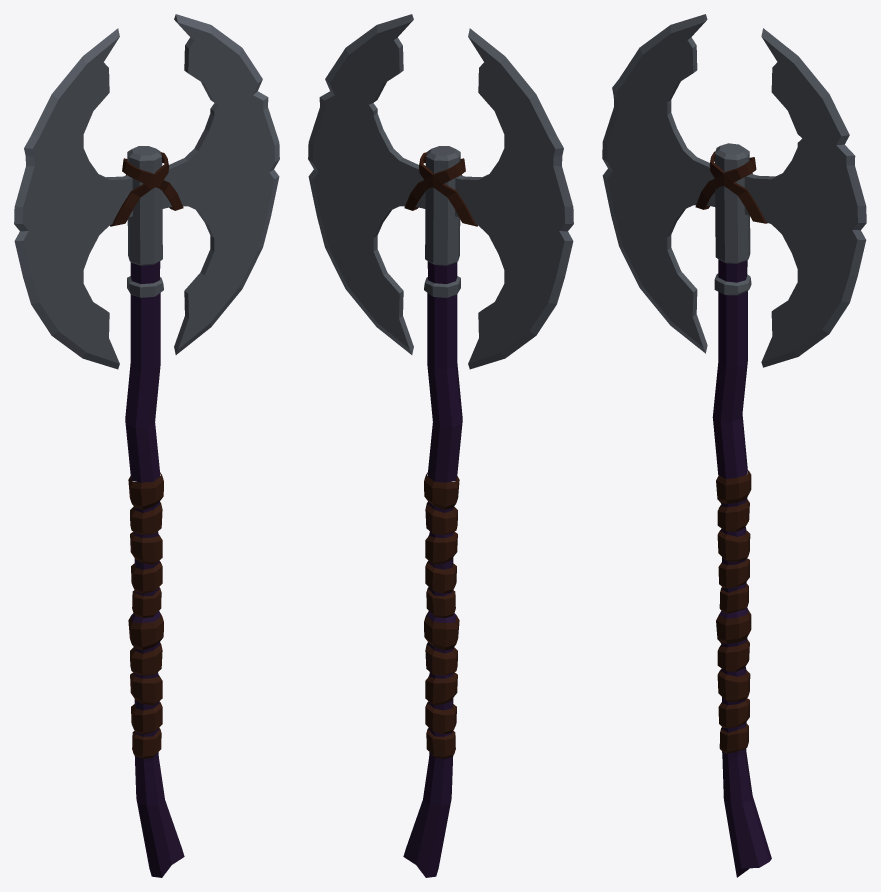
Rendered from Axe_Double.glb.
The picture shows the model from 3 angles, left to right: view 1: azimuth 30°, elevation 25°; view 2: azimuth 150°, elevation 25°; view 3: azimuth 330°, elevation 25°; orthographic projection.
Parts seen in each view (by area): view 1: Axe_Double; view 2: Axe_Double; view 3: Axe_Double.
Boxes of the visible parts, x1,y1,x2,y2 form: Axe_Double: (14, 14, 279, 877); Axe_Double: (308, 14, 573, 877); Axe_Double: (602, 14, 866, 877).
Bounding box in the file's own units: 0.2402 × 0.74 × 0.0304.
